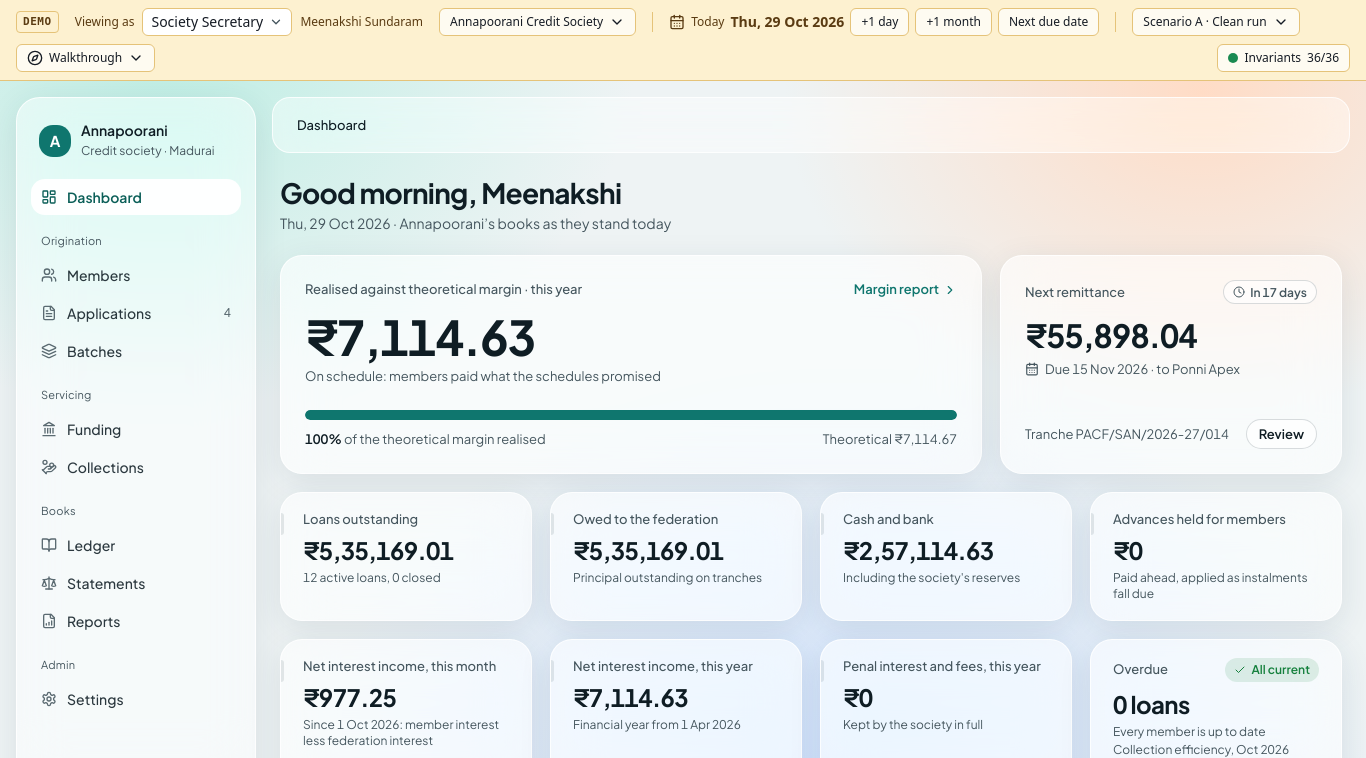
Test: the app shell › shows a member their loan at the retail rate, and nothing about wholesale pricing
This screenshot has width=1366, height=758.
Select "Member" in the dropdown. click: (218, 22)
box: [142,8,292,36]
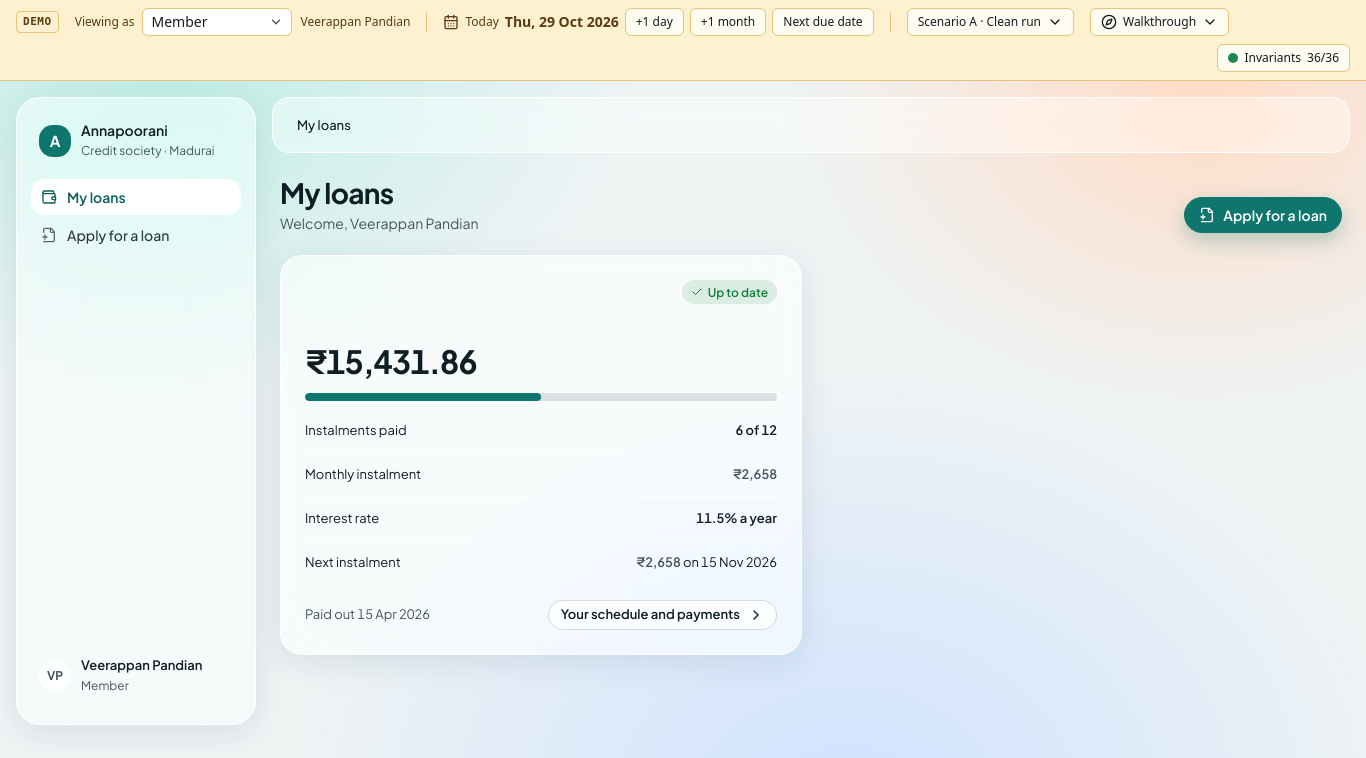
Now the text "11.5% a year" is shown, box [696,510,777,526]
Now the text "6 of 12" is shown, box [736,422,777,438]
